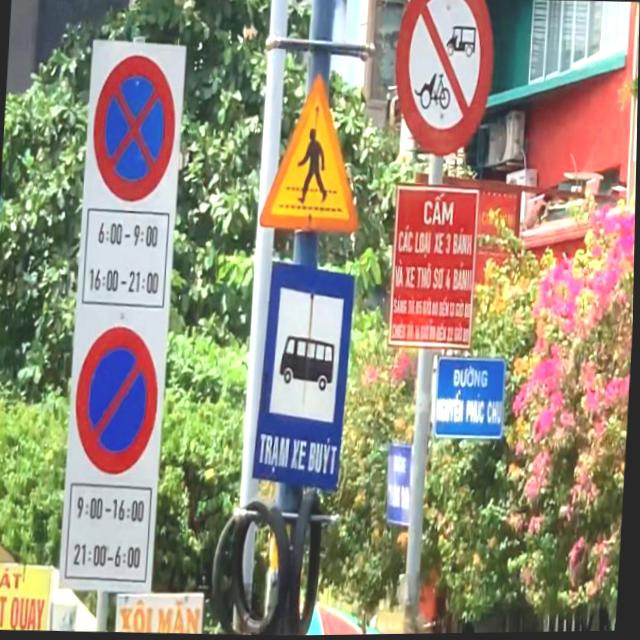Ben xe buyt: (251, 257, 359, 495)
Cam do xe: (73, 324, 164, 479)
Cam dung xe va do xe: (88, 52, 180, 207)
Nguoi di bo cat ngang: (258, 69, 369, 234)
